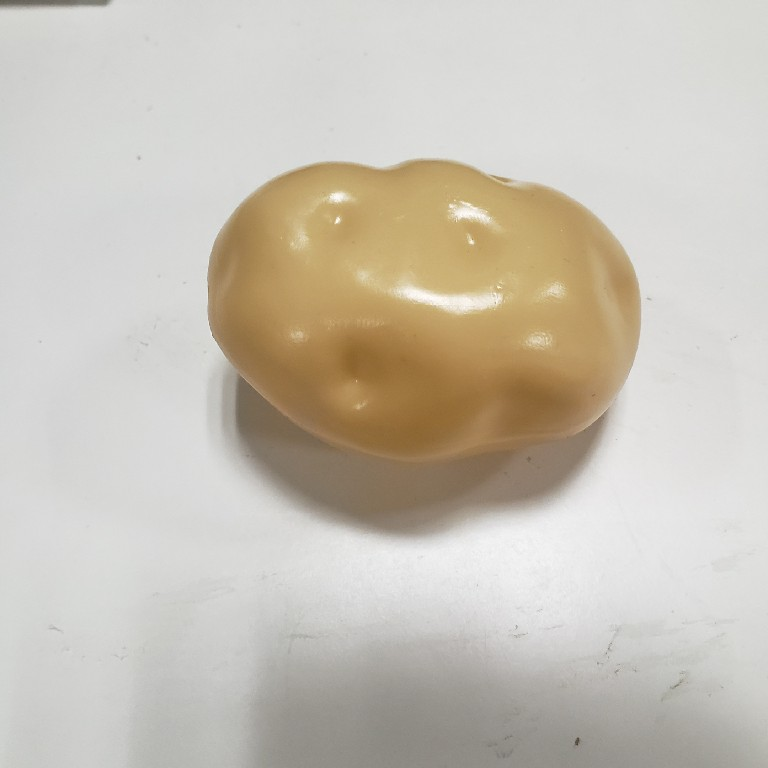fruit_potato: (201, 152, 646, 470)
